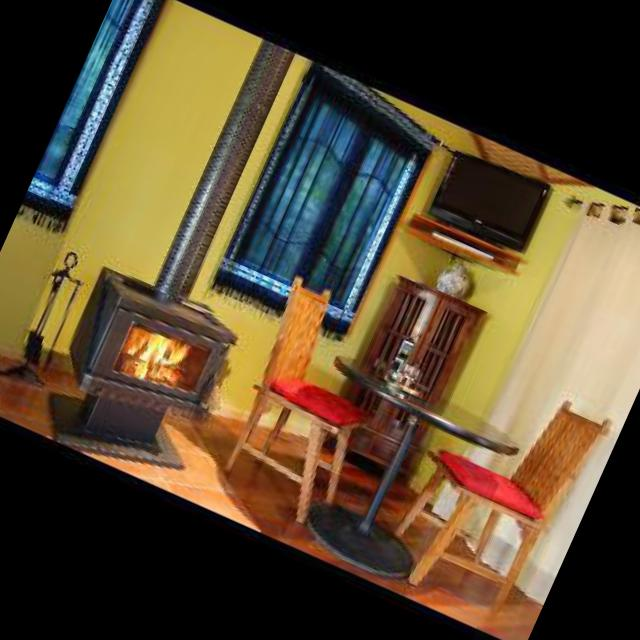fire: (112, 316, 214, 402)
